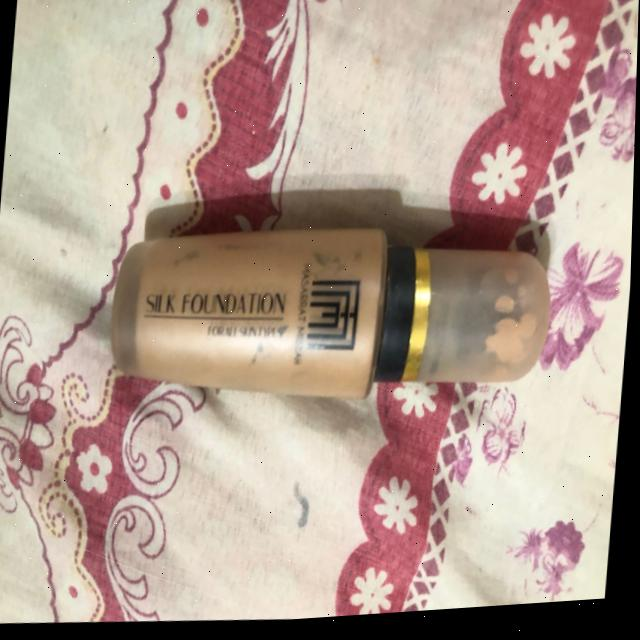foundation: (95, 174, 579, 457)
